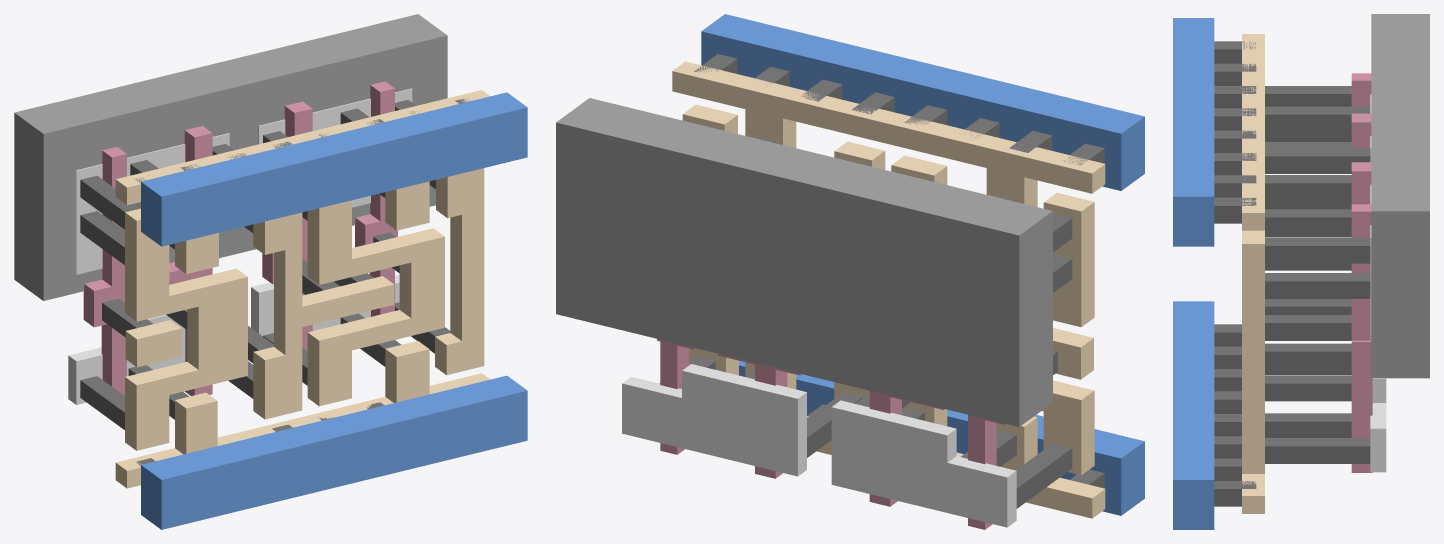
Rendered from sky130_fd_sc_hd__clkdlybuf4s18_1.gds.gltf.
3 renders of one model, left to right at view 1: azimuth 30°, elevation 25°; view 2: azimuth 150°, elevation 25°; view 3: azimuth 270°, elevation 25°, orthographic. The views are drawn at different scales.
Visible parts, largest first — view 1: sky130_fd_sc_hd__clkdlybuf4s18_1_li1, sky130_fd_sc_hd__clkdlybuf4s18_1_met1, sky130_fd_sc_hd__clkdlybuf4s18_1_nwell, sky130_fd_sc_hd__clkdlybuf4s18_1_licon, sky130_fd_sc_hd__clkdlybuf4s18_1_poly, sky130_fd_sc_hd__clkdlybuf4s18_1_diff, sky130_fd_sc_hd__clkdlybuf4s18_1_mcon; view 2: sky130_fd_sc_hd__clkdlybuf4s18_1_nwell, sky130_fd_sc_hd__clkdlybuf4s18_1_li1, sky130_fd_sc_hd__clkdlybuf4s18_1_diff, sky130_fd_sc_hd__clkdlybuf4s18_1_met1, sky130_fd_sc_hd__clkdlybuf4s18_1_licon, sky130_fd_sc_hd__clkdlybuf4s18_1_mcon, sky130_fd_sc_hd__clkdlybuf4s18_1_poly; view 3: sky130_fd_sc_hd__clkdlybuf4s18_1_licon, sky130_fd_sc_hd__clkdlybuf4s18_1_nwell, sky130_fd_sc_hd__clkdlybuf4s18_1_met1, sky130_fd_sc_hd__clkdlybuf4s18_1_mcon, sky130_fd_sc_hd__clkdlybuf4s18_1_li1, sky130_fd_sc_hd__clkdlybuf4s18_1_poly, sky130_fd_sc_hd__clkdlybuf4s18_1_diff.
Boxes of the visible parts, <box> form: sky130_fd_sc_hd__clkdlybuf4s18_1_li1: <box>115,90,489,488</box>; sky130_fd_sc_hd__clkdlybuf4s18_1_met1: <box>141,92,527,529</box>; sky130_fd_sc_hd__clkdlybuf4s18_1_nwell: <box>14,14,447,300</box>; sky130_fd_sc_hd__clkdlybuf4s18_1_licon: <box>80,100,450,429</box>; sky130_fd_sc_hd__clkdlybuf4s18_1_poly: <box>83,81,397,395</box>; sky130_fd_sc_hd__clkdlybuf4s18_1_diff: <box>68,88,412,404</box>; sky130_fd_sc_hd__clkdlybuf4s18_1_mcon: <box>135,98,469,466</box>; sky130_fd_sc_hd__clkdlybuf4s18_1_nwell: <box>556,98,1052,426</box>; sky130_fd_sc_hd__clkdlybuf4s18_1_li1: <box>672,61,1105,518</box>; sky130_fd_sc_hd__clkdlybuf4s18_1_diff: <box>622,364,1016,527</box>; sky130_fd_sc_hd__clkdlybuf4s18_1_met1: <box>701,14,1144,515</box>; sky130_fd_sc_hd__clkdlybuf4s18_1_licon: <box>659,136,1072,508</box>; sky130_fd_sc_hd__clkdlybuf4s18_1_mcon: <box>694,54,1104,488</box>; sky130_fd_sc_hd__clkdlybuf4s18_1_poly: <box>657,339,1006,529</box>; sky130_fd_sc_hd__clkdlybuf4s18_1_licon: <box>1265,86,1370,463</box>; sky130_fd_sc_hd__clkdlybuf4s18_1_nwell: <box>1371,14,1429,378</box>; sky130_fd_sc_hd__clkdlybuf4s18_1_met1: <box>1173,18,1214,529</box>; sky130_fd_sc_hd__clkdlybuf4s18_1_mcon: <box>1214,41,1256,506</box>; sky130_fd_sc_hd__clkdlybuf4s18_1_li1: <box>1242,34,1264,513</box>; sky130_fd_sc_hd__clkdlybuf4s18_1_poly: <box>1351,73,1372,472</box>; sky130_fd_sc_hd__clkdlybuf4s18_1_diff: <box>1370,94,1386,472</box>.
Bounding box in the file's own units: 4.06 × 3.2 × 2.24.
